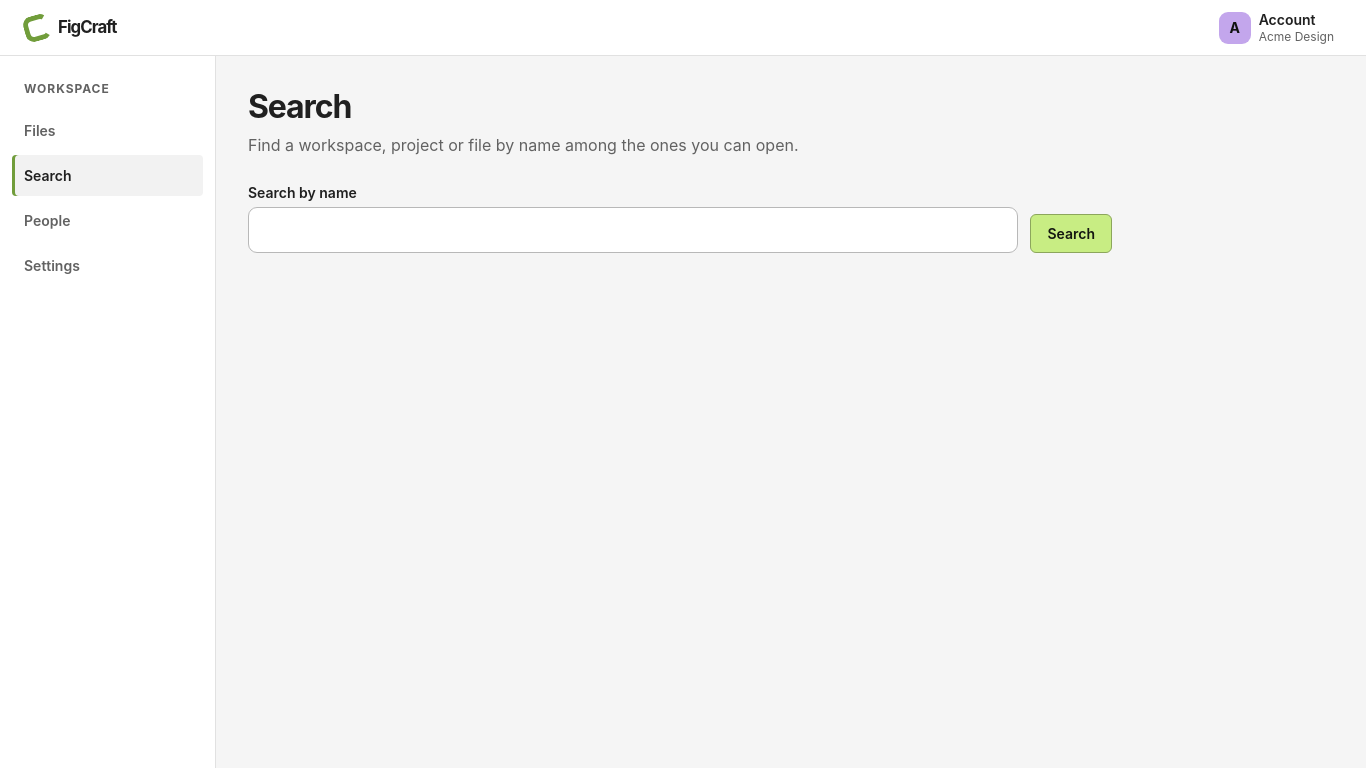
Test case: search › does nothing for an empty term and shows an error when the lists fail
In the search field with test id "search-input": x=633, y=230 [248,207,1018,253], type "x"
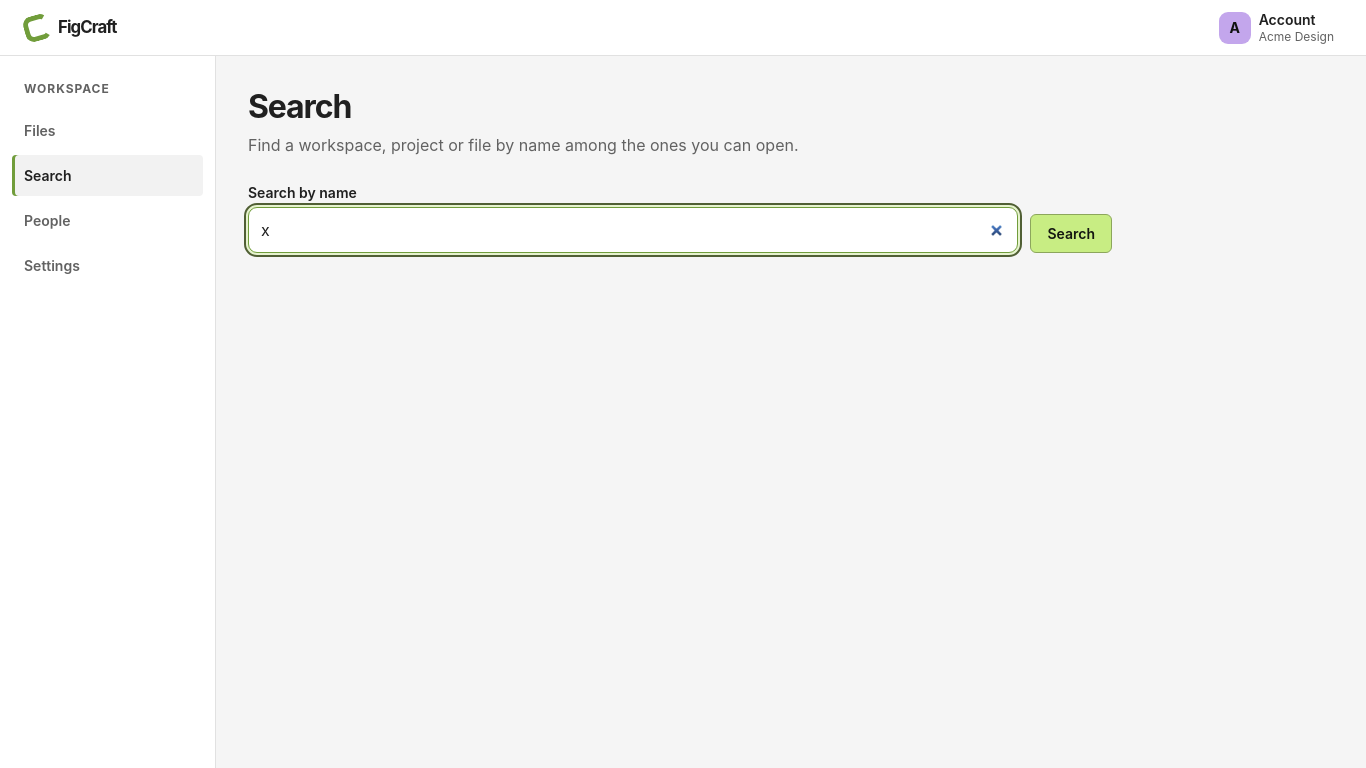
Click the button with test id "search-submit": x=1071, y=233 [1030,214,1112,253]
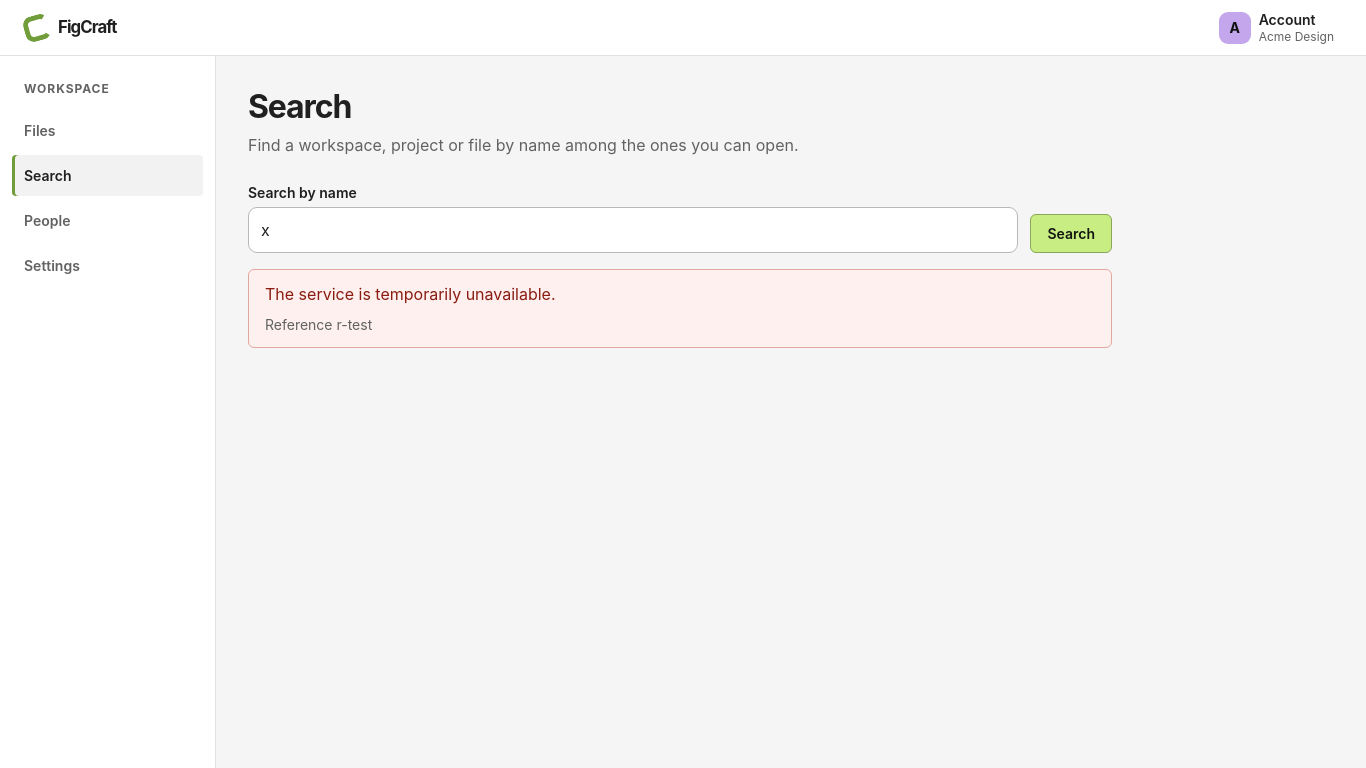
Expected: the message shows "temporarily unavailable", [265,284,556,304]
